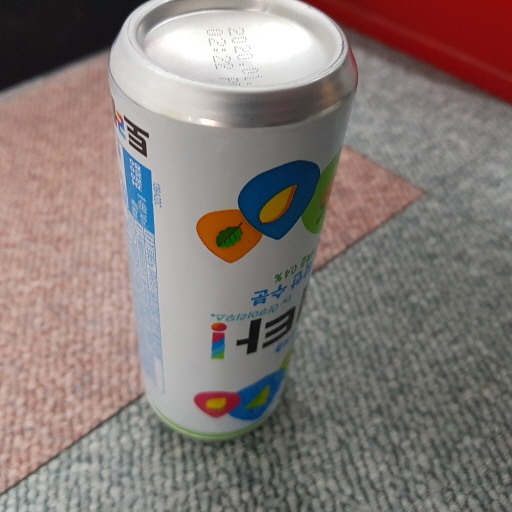Metal_0: (108, 1, 360, 446)
